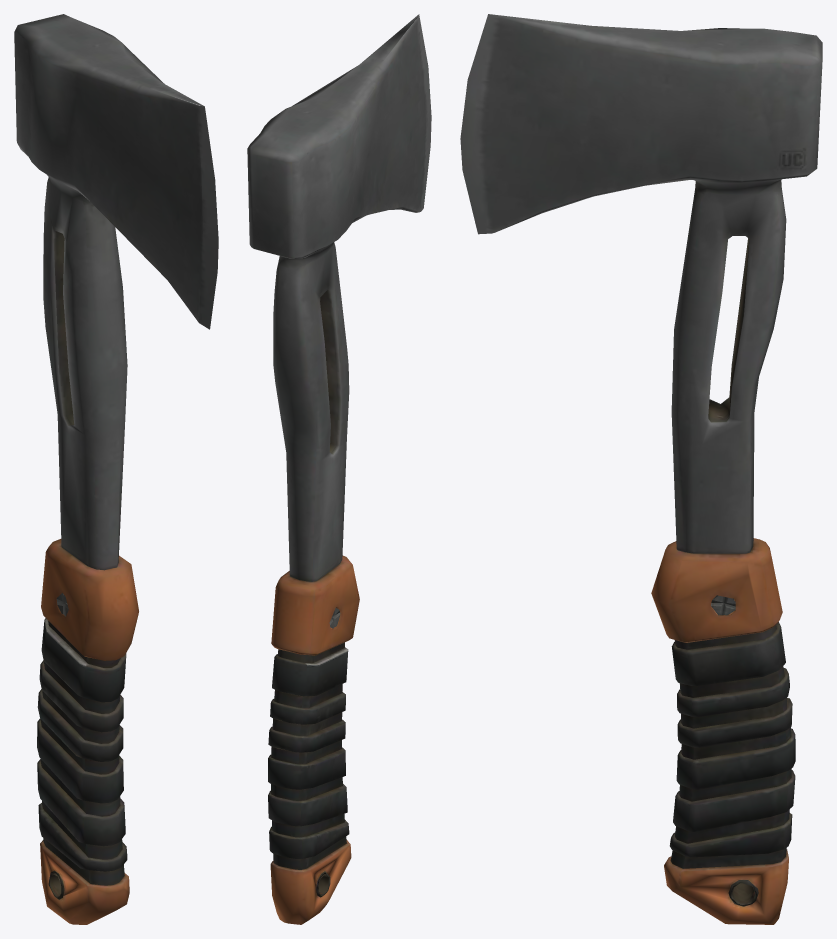
Rendered from hatchet.glb.
3 views of the same model, side by side, from view 1: azimuth 30°, elevation 25°; view 2: azimuth 150°, elevation 25°; view 3: azimuth 270°, elevation 25° (orthographic). The views are drawn at different scales.
Parts seen in each view (by area): view 1: hatchet; view 2: hatchet; view 3: hatchet.
Boxes of the visible parts, bbox=[...] form: hatchet: bbox=[14, 14, 218, 924]; hatchet: bbox=[247, 14, 431, 924]; hatchet: bbox=[460, 14, 822, 924].
Size of the model in its own units: 0.0254 by 0.2887 by 0.1043.
Materials: 1 (1 with a texture image).
